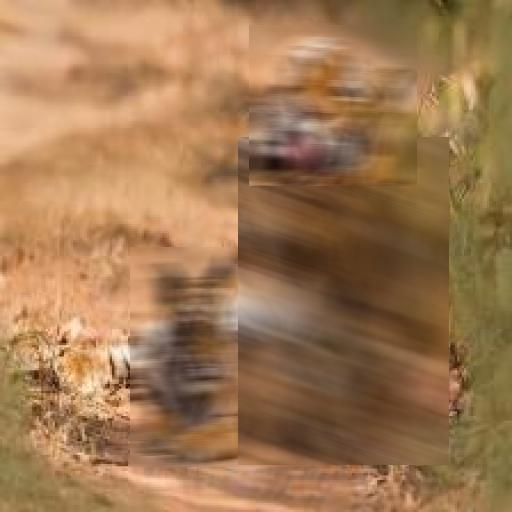Tiger: (238, 137, 449, 465), (130, 247, 303, 467), (249, 25, 417, 186)
